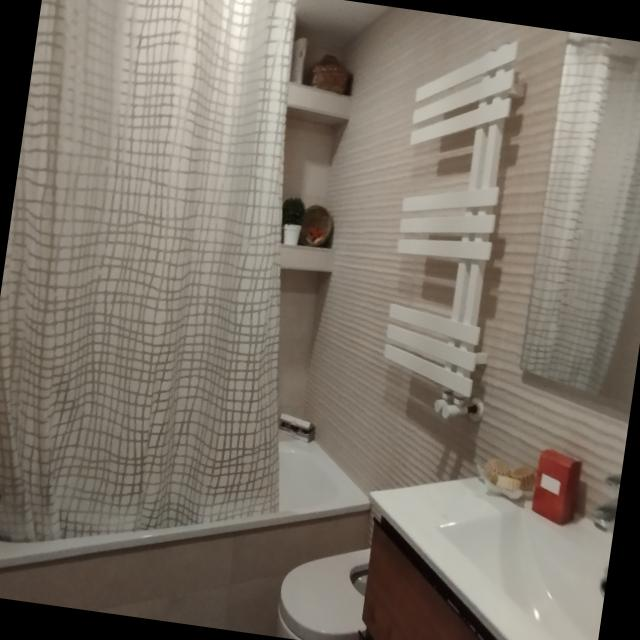wardrobe: (364, 479, 614, 640)
